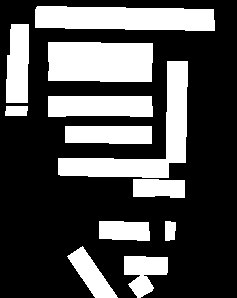parkingspot: (35, 6, 214, 30), (67, 246, 118, 298), (166, 61, 187, 162), (58, 158, 168, 177), (48, 42, 152, 62), (48, 96, 152, 116), (48, 61, 151, 81), (6, 24, 28, 102), (65, 126, 151, 143), (99, 221, 149, 240), (133, 179, 184, 197), (124, 256, 167, 274), (128, 275, 153, 298), (5, 106, 27, 115), (165, 221, 175, 240)
